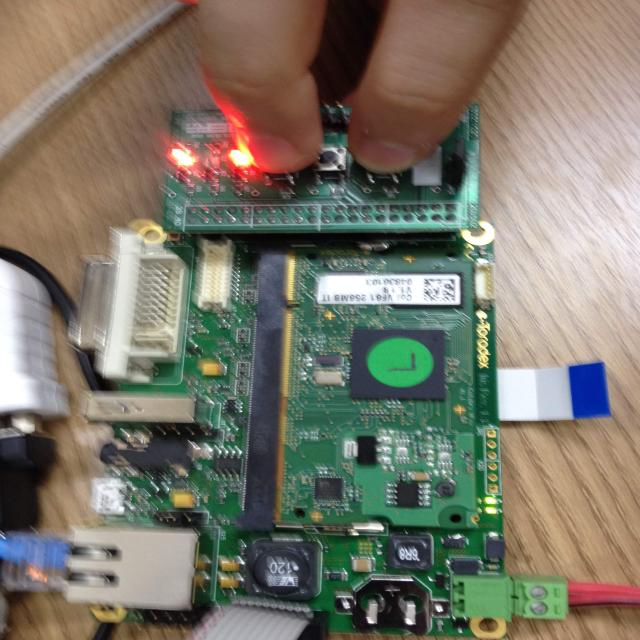som: (273, 246, 488, 542)
